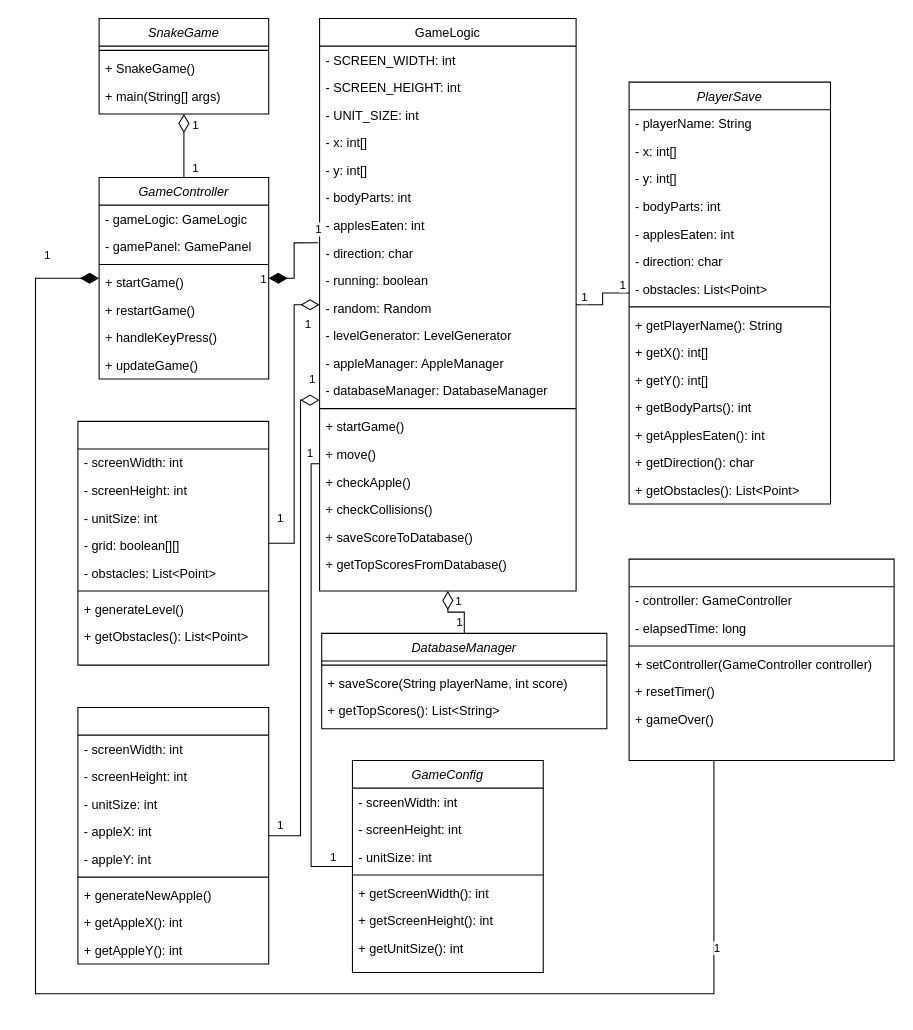
Some shapes in this 913 by 1030 pixel diagram are drawn without their labels. Each missing label, with the box of its shape:
AppleManager: (77, 706, 269, 964)
GamePanel: (628, 558, 894, 761)
LevelGenerator: (77, 420, 269, 665)
